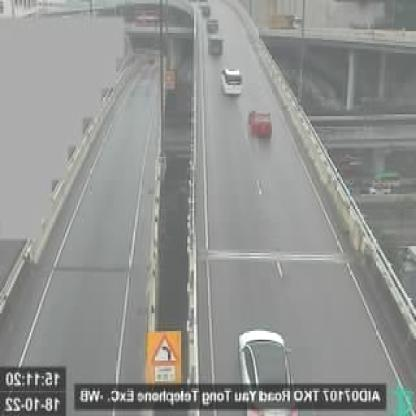Car: (236, 327, 303, 416), (248, 107, 272, 138), (221, 66, 243, 96), (208, 35, 222, 55), (207, 16, 220, 32)
